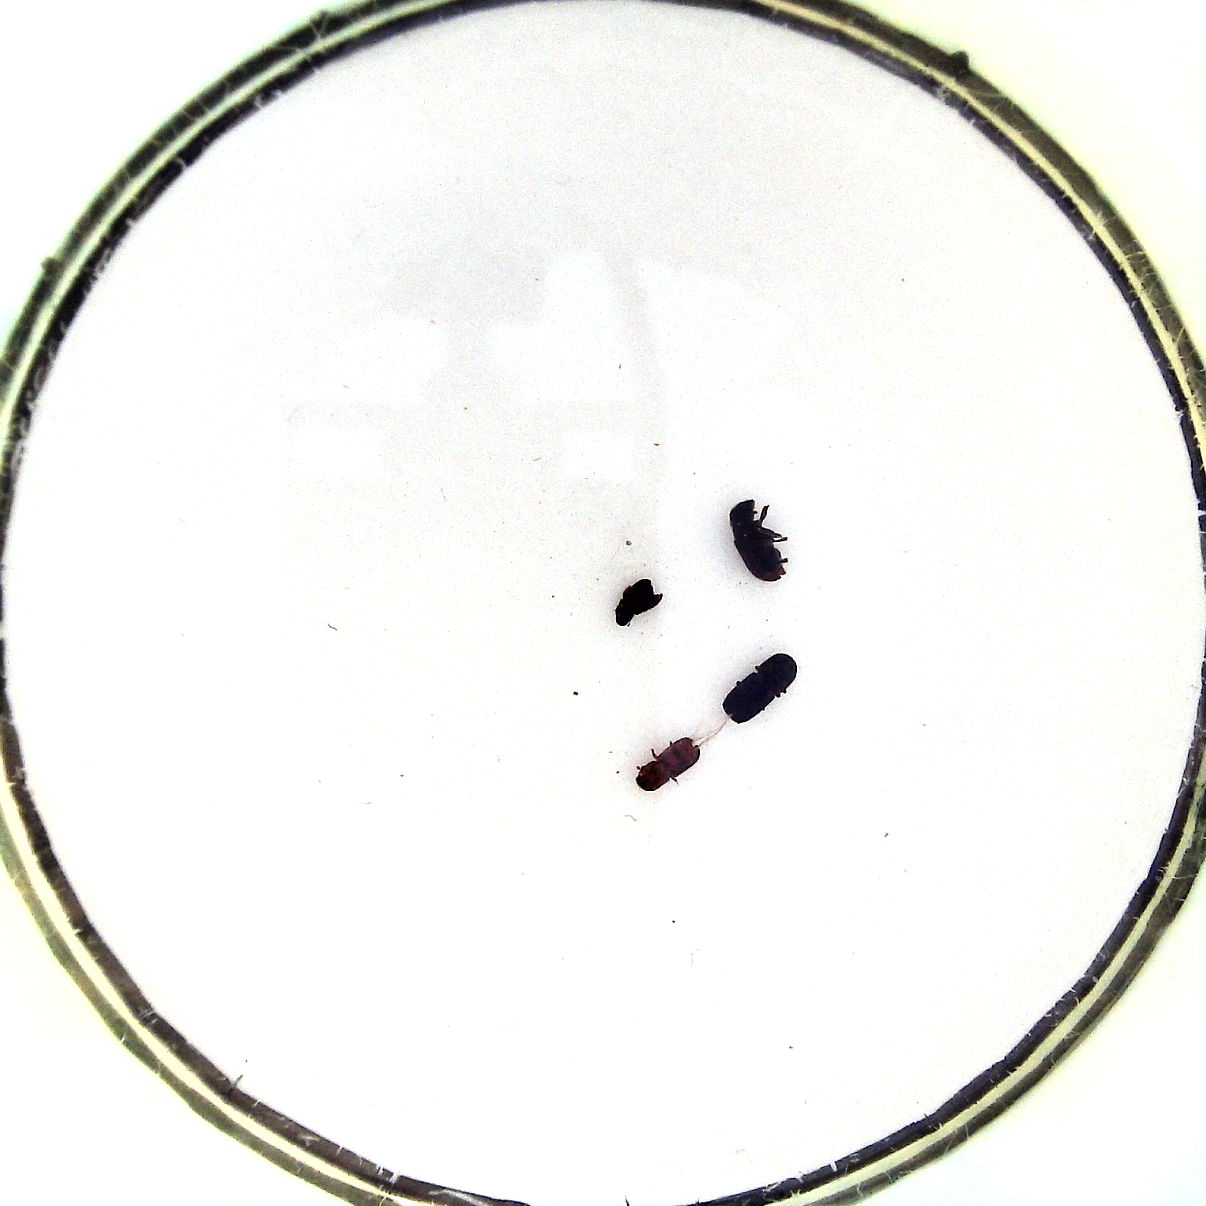Linnaeus: (719, 650, 801, 727)
acuminatus: (634, 732, 706, 797)
armandi: (724, 495, 787, 586)
coleoptera: (611, 576, 667, 630)
